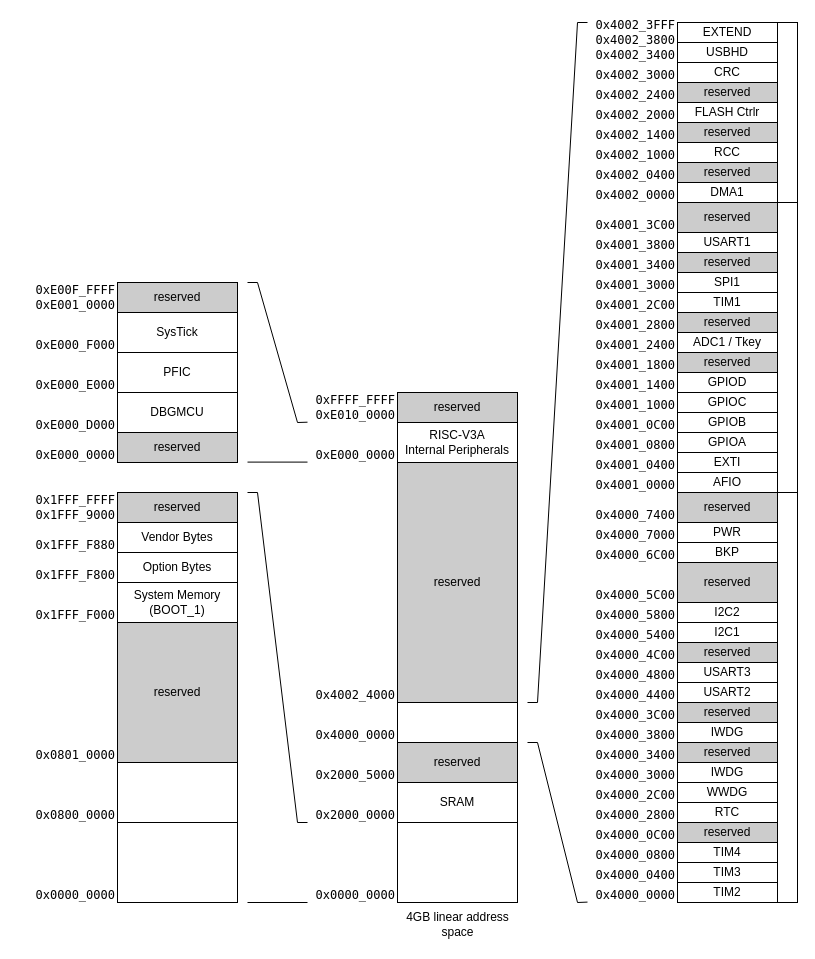
Image size: 815x959. Some labels were removed from this diagram. Each missing label, with the centre of its shape:
"AHB" belongs at (787,112).
"APB1" belongs at (787,697).
"APB2" belongs at (787,347).
"Code" belongs at (457,862).
"FLASH" belongs at (177,792).
"Peripherals" belongs at (457,722).
"Remappable Region (FLASH or System Memory)" belongs at (177,862).
